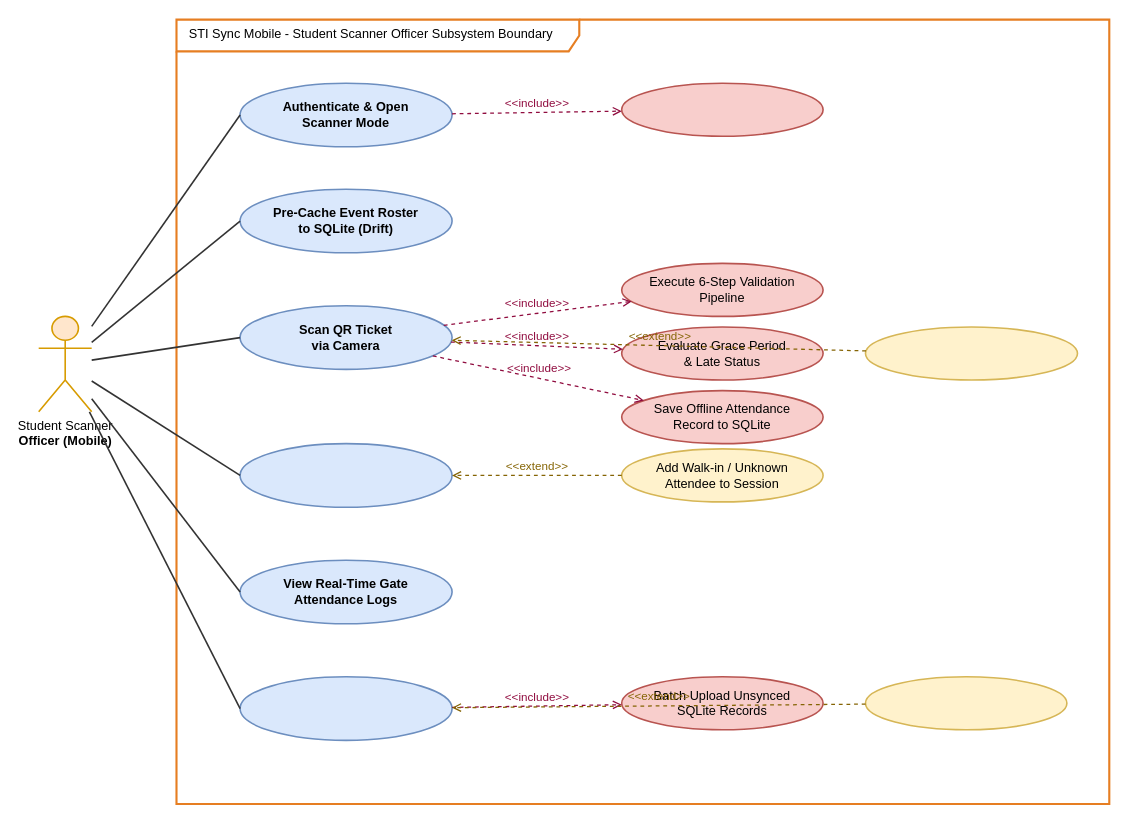
The diagram is 1129 pixels wide and 823 high, and some of its shapes have lost their labels. Here are the shapes that lost their labels. From the top down, the box of each, then its label:
(620, 82, 823, 137): Validate Scanner Role & Session Permissions
(864, 326, 1078, 380): Display Visual Result Overlay (Present/Late/Duplicate/Closed)
(239, 442, 452, 508): Record Manual / Flagged Attendance Entry
(239, 676, 452, 741): Synchronize Data with Cloud Firestore
(864, 676, 1067, 730): Inspect & Resolve Sync Conflicts
